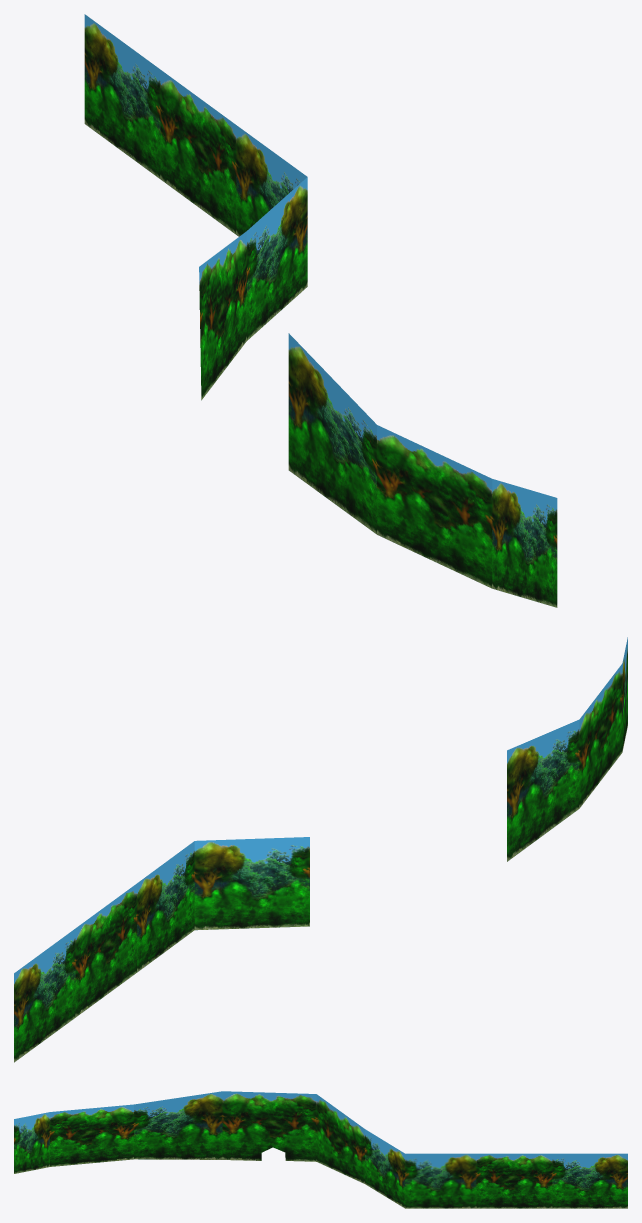
Rendered from 2D_Trees_04.glb.
3 views of the same model, one above another, from view 1: azimuth 30°, elevation 25°; view 2: azimuth 150°, elevation 25°; view 3: azimuth 270°, elevation 25° (orthographic). The views are drawn at different scales.
Parts seen in each view (by area): view 1: 2D_Trees_04; view 2: 2D_Trees_04; view 3: 2D_Trees_04.
Part boxes in pixels (x1=…): 2D_Trees_04: x1=84, y1=14, x2=557, y2=607; 2D_Trees_04: x1=14, y1=637, x2=627, y2=1062; 2D_Trees_04: x1=14, y1=1091, x2=627, y2=1208.
Bounding box in the file's own units: 3556 × 2327 × 18725.
Materials: 2 (2 with a texture image).
